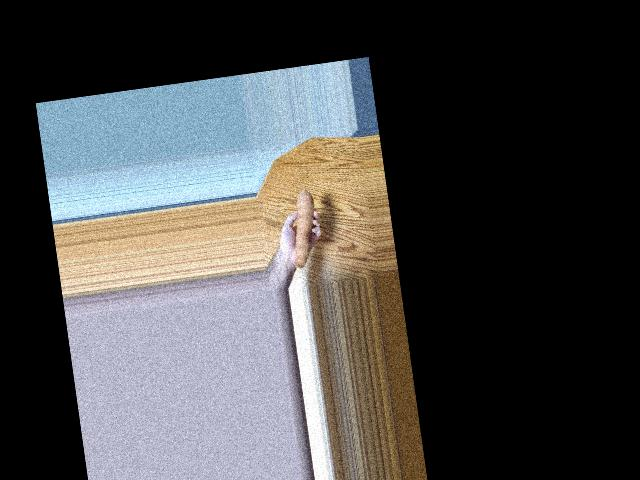sweet_potato: (282, 184, 325, 265)
